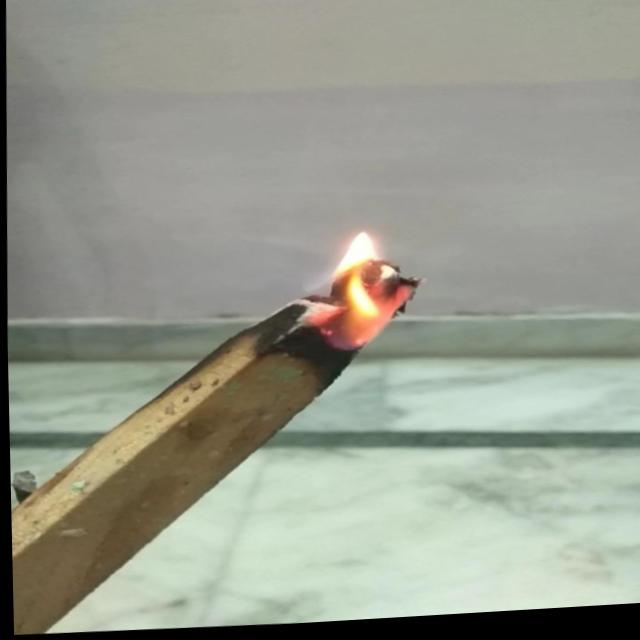fire: (279, 219, 426, 368)
